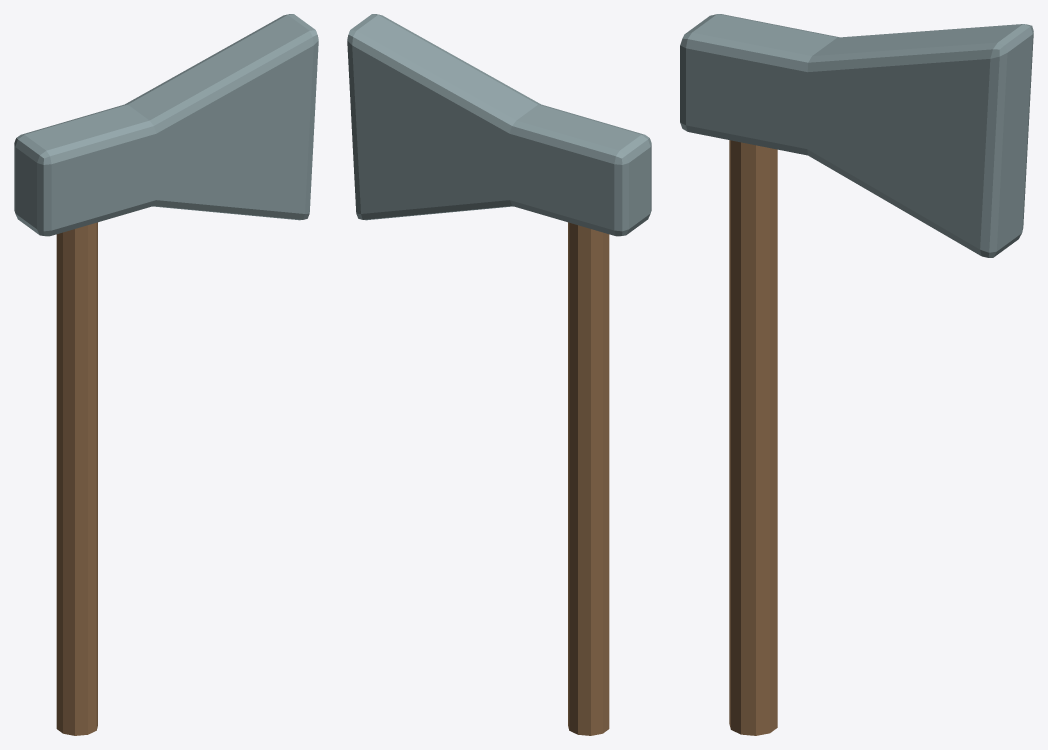
The model's file is axe.glb.
3 renders of one model, left to right at view 1: azimuth 30°, elevation 25°; view 2: azimuth 150°, elevation 25°; view 3: azimuth 330°, elevation 25°, orthographic. The views are drawn at different scales.
Parts seen in each view (by area): view 1: woodcutting_axe_head, woodcutting_axe_handle; view 2: woodcutting_axe_head, woodcutting_axe_handle; view 3: woodcutting_axe_head, woodcutting_axe_handle.
Part boxes in pixels (left/top/right/bottom): woodcutting_axe_head: left=14, top=14, right=318, bottom=236; woodcutting_axe_handle: left=56, top=222, right=97, bottom=735; woodcutting_axe_head: left=347, top=14, right=651, bottom=236; woodcutting_axe_handle: left=568, top=222, right=609, bottom=735; woodcutting_axe_head: left=680, top=14, right=1033, bottom=257; woodcutting_axe_handle: left=729, top=140, right=777, bottom=735.
Bounding box in the file's own units: 0.549 × 1.21 × 0.11.
